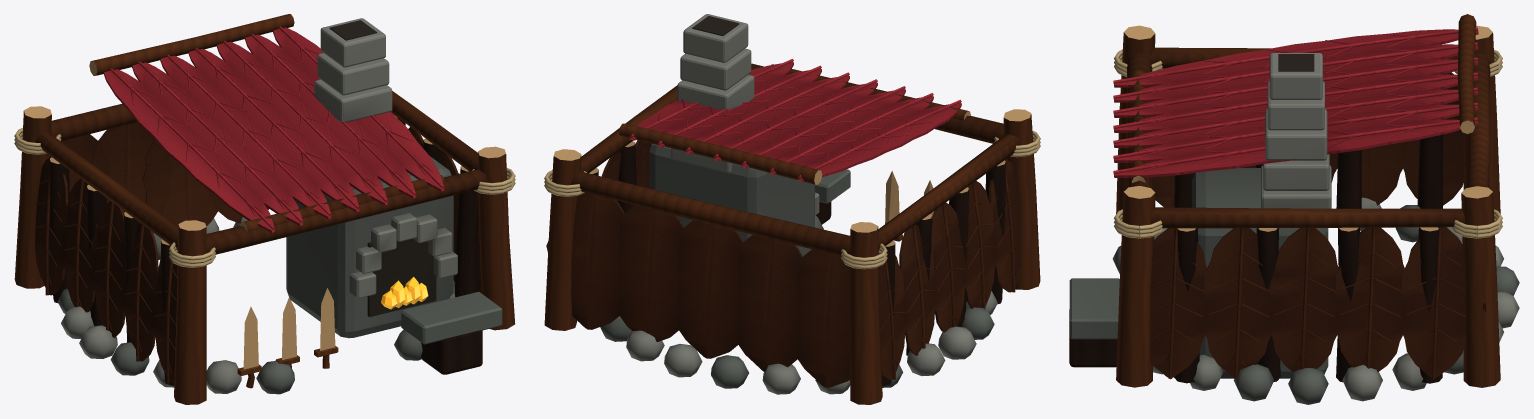
3 views of the same model, side by side, from view 1: azimuth 30°, elevation 25°; view 2: azimuth 150°, elevation 25°; view 3: azimuth 270°, elevation 25° (orthographic). The views are drawn at different scales.
Visible parts, largest first — view 1: canopy-ironroot-forge · evaluated preview mesh; view 2: canopy-ironroot-forge · evaluated preview mesh; view 3: canopy-ironroot-forge · evaluated preview mesh.
Part boxes in pixels (<box>): canopy-ironroot-forge · evaluated preview mesh: <box>14,14,515,404</box>; canopy-ironroot-forge · evaluated preview mesh: <box>544,14,1040,404</box>; canopy-ironroot-forge · evaluated preview mesh: <box>1069,14,1519,404</box>.
Bounding box in the file's own units: 5.73 × 4.07 × 5.6.
Materials: 12 (5 with a texture image).
